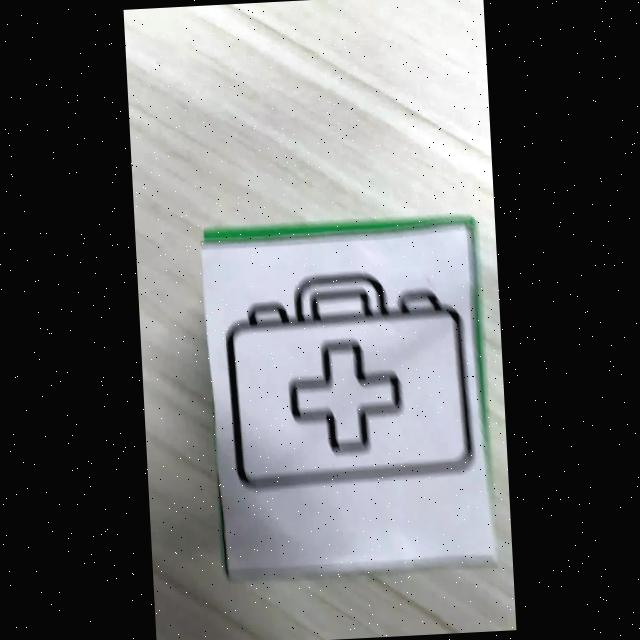Medkit: (226, 275, 474, 492)
